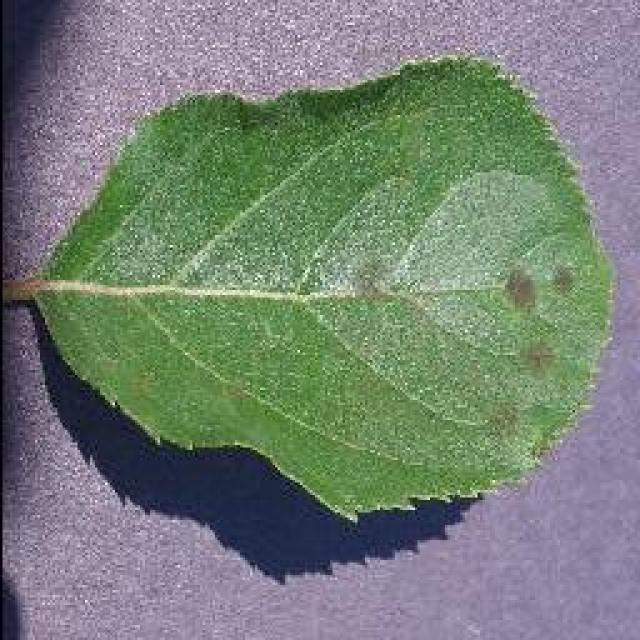apple scab disease: (10, 50, 618, 525)
